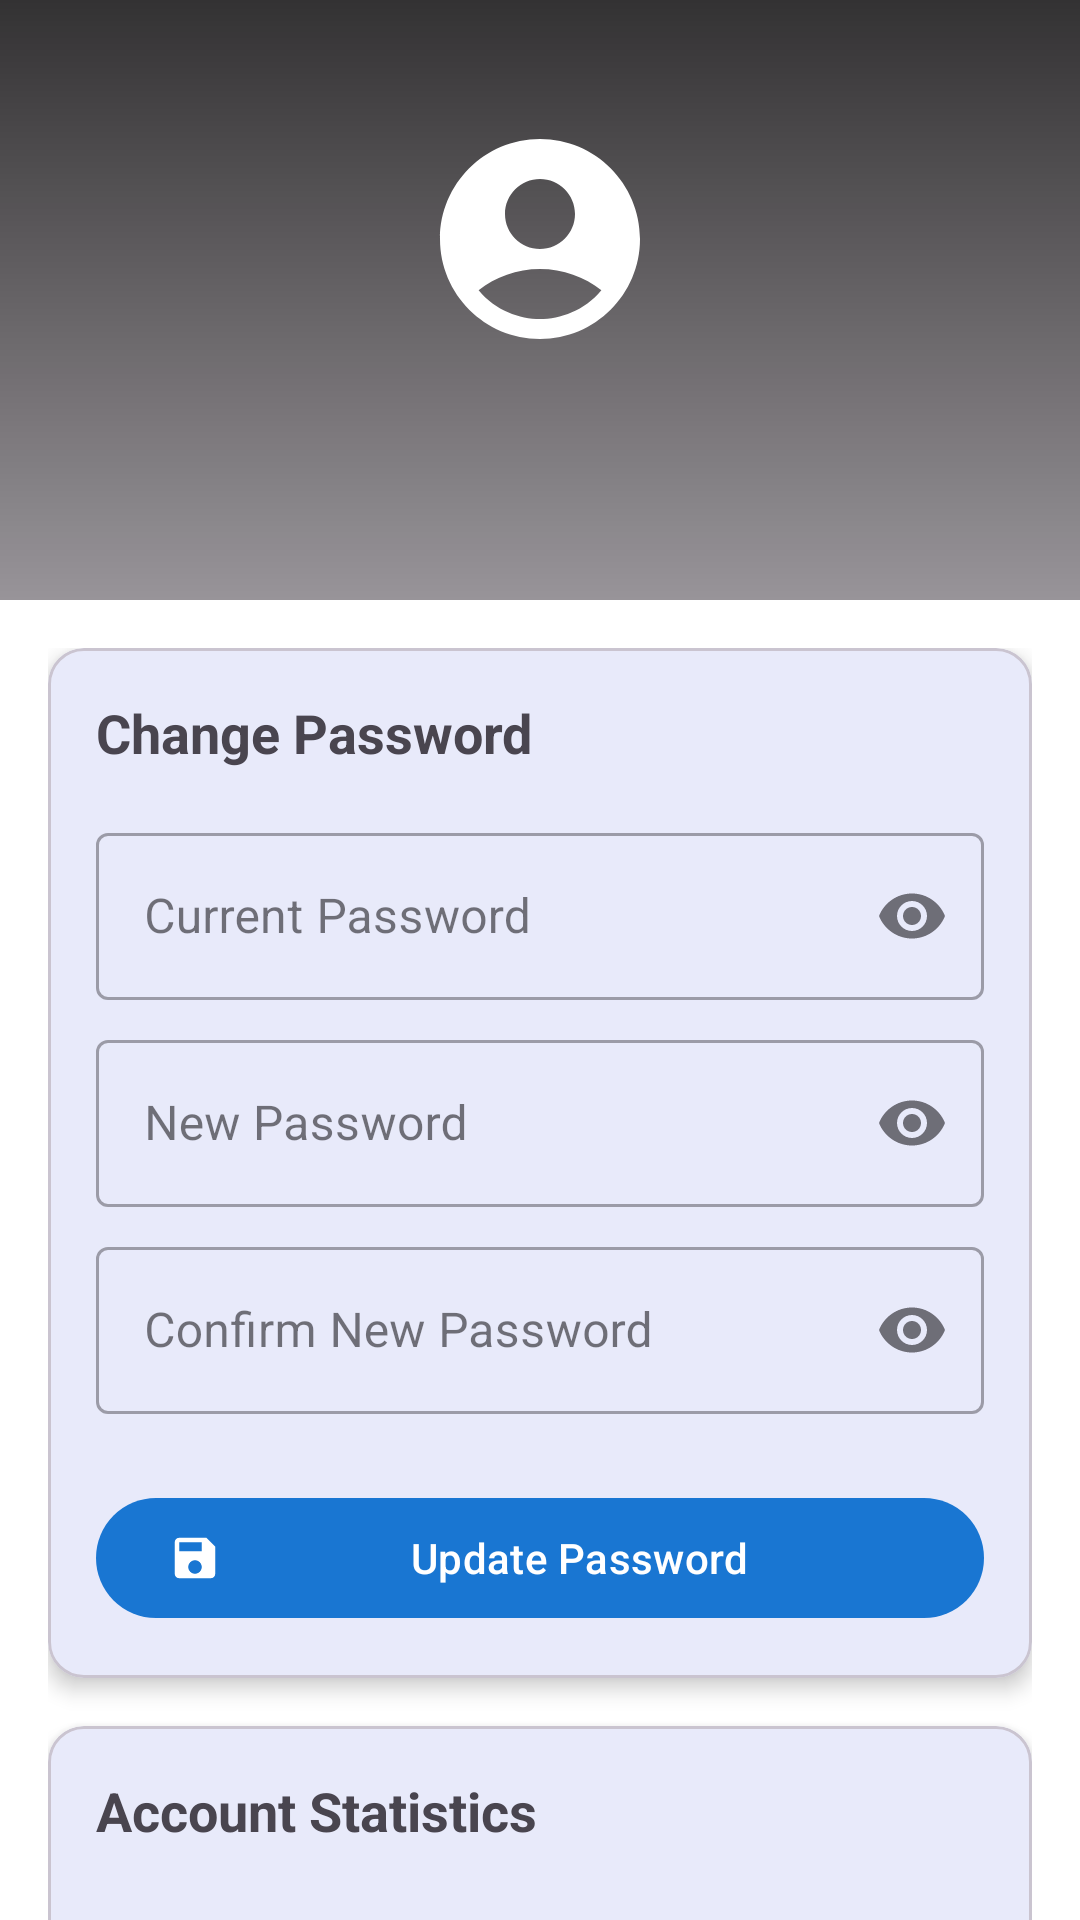

Icon click points for this 1080 x 1920 phone screenshot, format point (x, y):
profile circle: point (540, 239)
